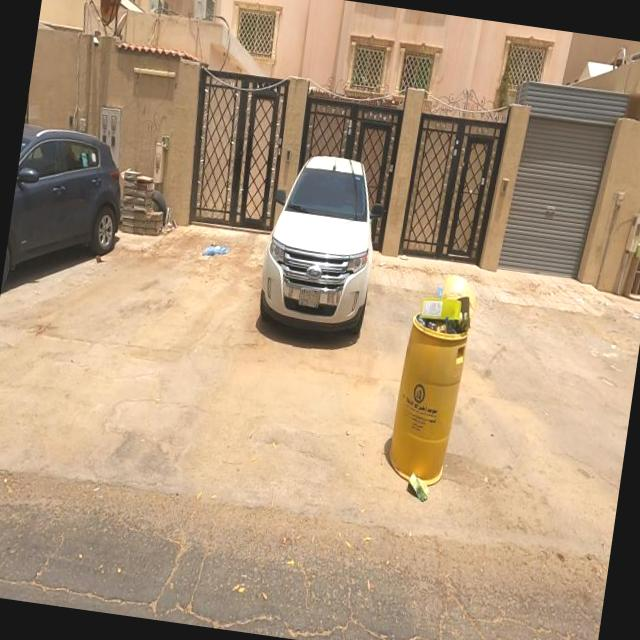debris: (379, 224, 504, 400), (163, 188, 258, 308), (380, 426, 454, 548)
